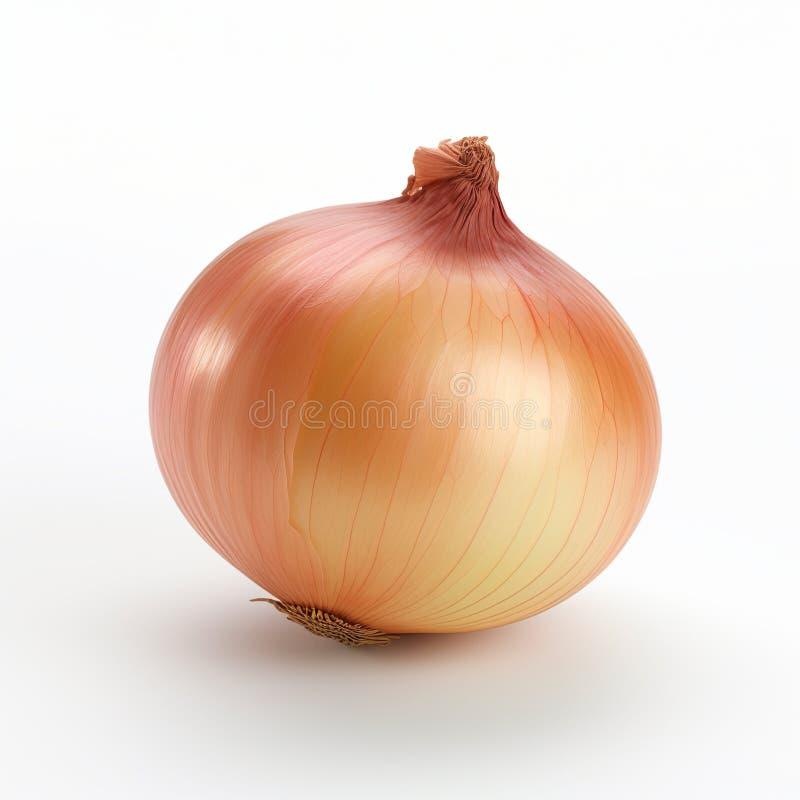Onion: (140, 128, 668, 647)
